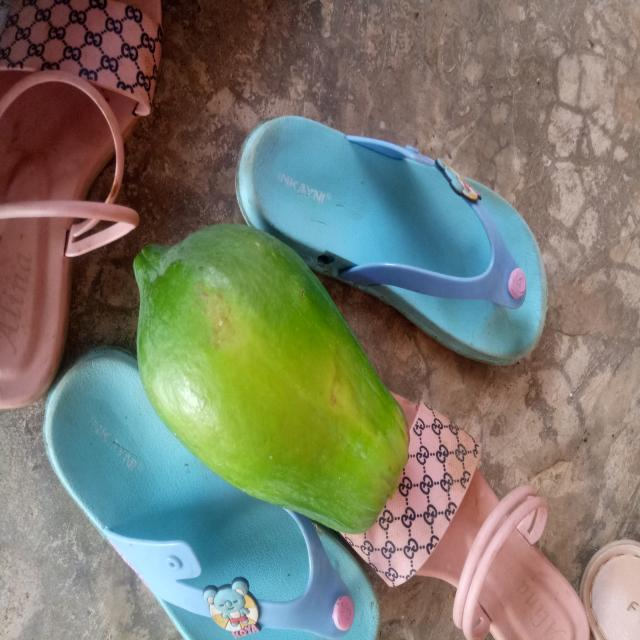Pepaya unrippen: (120, 226, 416, 535)
